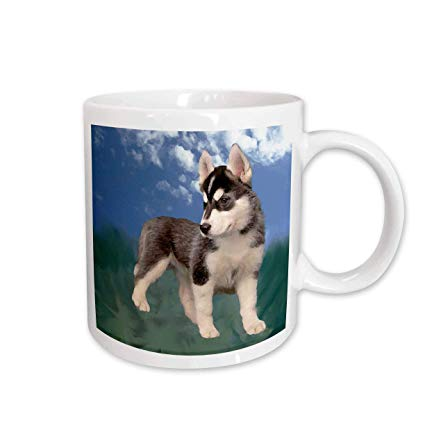husky: (135, 139, 272, 304)
